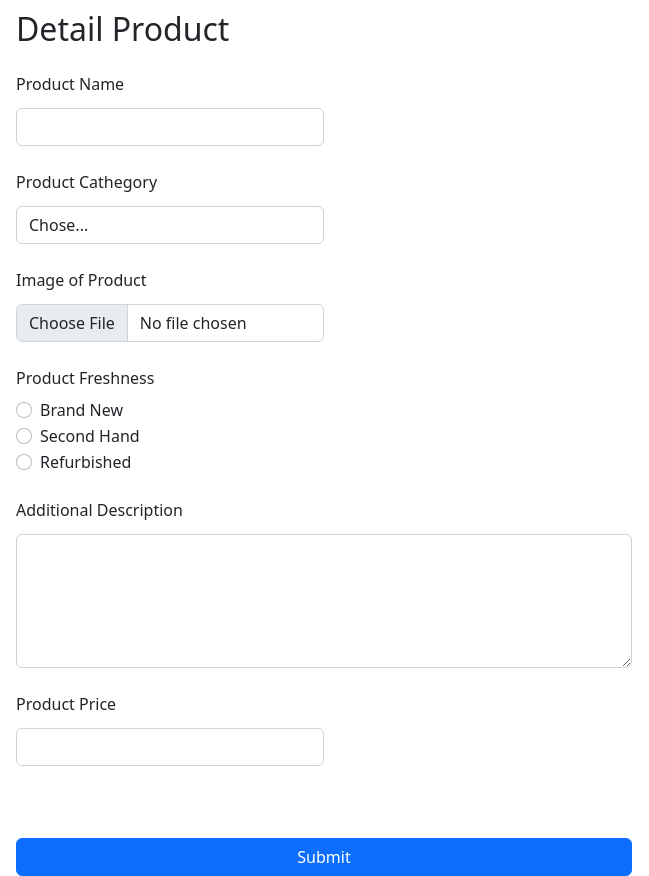
Test: Form › Should show Error if formfield empty
The image size is (649, 876).
(page scrolled)
Click the button "Submit" at (324, 857), box [16,838,632,875]
(page scrolled)
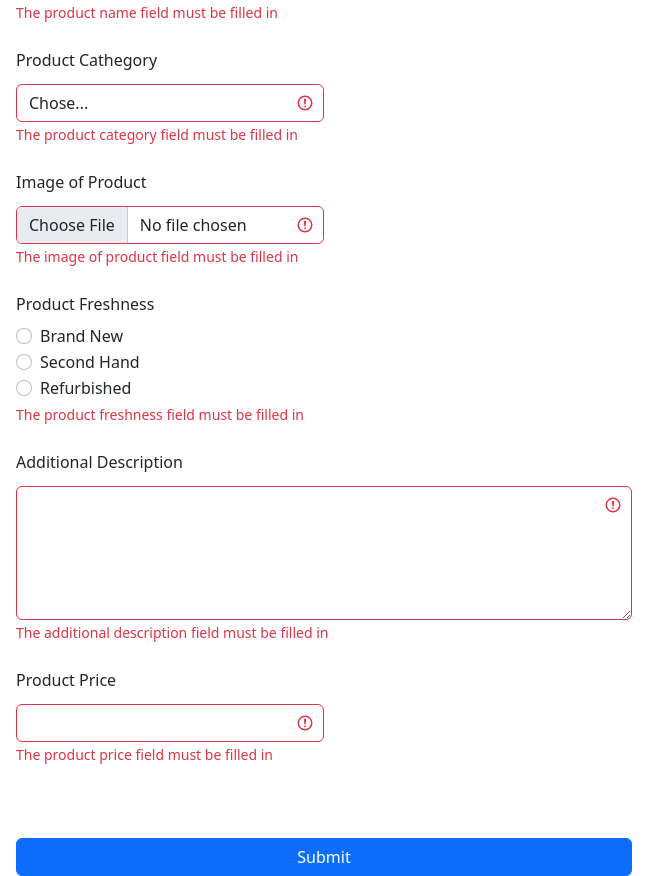
Expected: the text "The product name field must be filled in" is shown, [16,3,278,22]
Expected: the text "The product category field must be filled in" is shown, [16,125,298,144]
Expected: the text "The image of product field must be filled in" is shown, [16,247,298,266]
